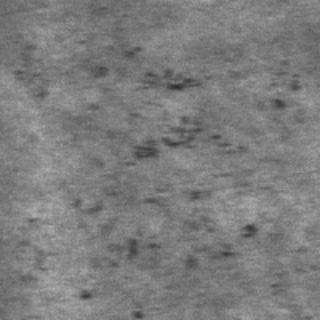rolled pit: (67, 189, 260, 265), (88, 65, 224, 162)
